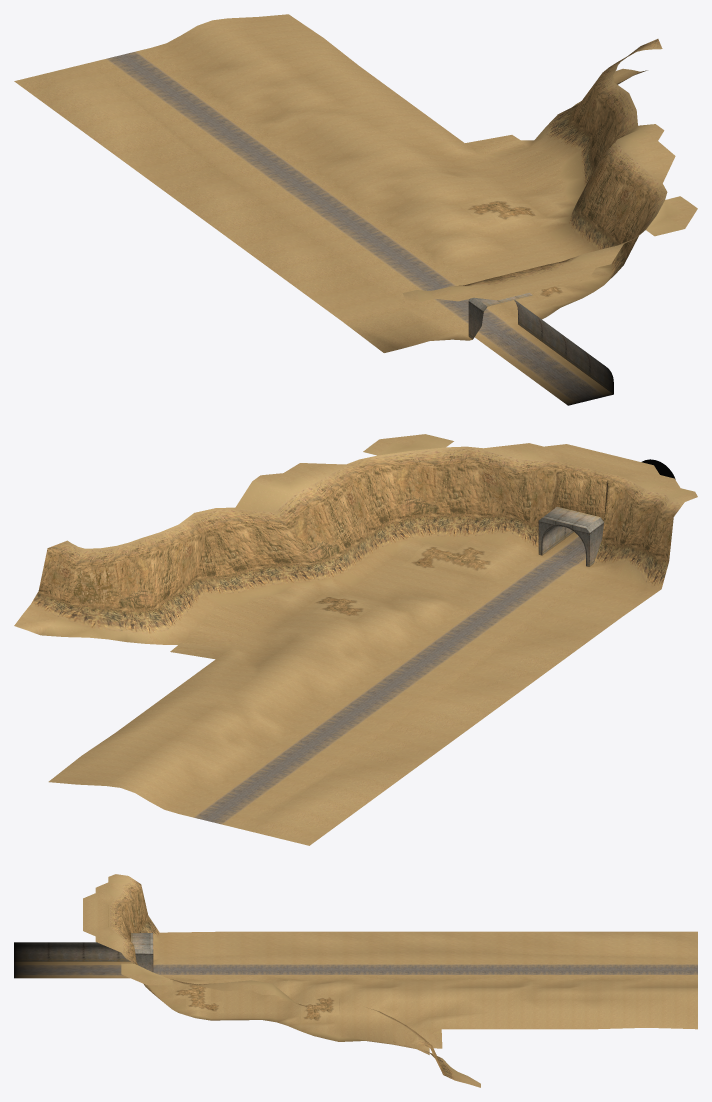
The model's file is Mission5_Zone04.glb.
3 renders of one model, top to bottom at view 1: azimuth 30°, elevation 25°; view 2: azimuth 150°, elevation 25°; view 3: azimuth 270°, elevation 25°, orthographic. The views are drawn at different scales.
Parts seen in each view (by area): view 1: MISSION5_ZONE04163, MISSION5_ZONE04102, MISSION5_ZONE04181, MISSION5_ZONE04003, MISSION5_ZONE04148, MISSION5_ZONE04010, MISSION5_ZONE04011, MISSION5_ZONE04063, MISSION5_ZONE04206, MISSION5_ZONE04193, MISSION5_ZONE04054, MISSION5_ZONE04002 (+80 smaller); view 2: MISSION5_ZONE04163, MISSION5_ZONE04102, MISSION5_ZONE04181, MISSION5_ZONE04020, MISSION5_ZONE04031, MISSION5_ZONE04087, MISSION5_ZONE04148, MISSION5_ZONE04032, MISSION5_ZONE04158, MISSION5_ZONE04016, MISSION5_ZONE04159, MISSION5_ZONE04120 (+75 smaller); view 3: MISSION5_ZONE04163, MISSION5_ZONE04102, MISSION5_ZONE04002, MISSION5_ZONE04148, MISSION5_ZONE04010, MISSION5_ZONE04181, MISSION5_ZONE04207, MISSION5_ZONE04003, MISSION5_ZONE04179, MISSION5_ZONE04222, MISSION5_ZONE04167, MISSION5_ZONE04194 (+58 smaller).
Part boxes in pixels (<box>): MISSION5_ZONE04163: <box>106,59,468,324</box>; MISSION5_ZONE04102: <box>111,63,468,333</box>; MISSION5_ZONE04181: <box>91,59,453,328</box>; MISSION5_ZONE04003: <box>513,304,613,399</box>; MISSION5_ZONE04148: <box>94,65,456,330</box>; MISSION5_ZONE04010: <box>475,272,590,402</box>; MISSION5_ZONE04011: <box>512,262,612,394</box>; MISSION5_ZONE04063: <box>598,150,628,240</box>; MISSION5_ZONE04206: <box>51,94,117,134</box>; MISSION5_ZONE04193: <box>87,123,154,161</box>; MISSION5_ZONE04054: <box>616,167,647,249</box>; MISSION5_ZONE04002: <box>476,335,590,405</box>; MISSION5_ZONE04163: <box>222,568,572,824</box>; MISSION5_ZONE04102: <box>228,567,588,820</box>; MISSION5_ZONE04181: <box>223,574,583,827</box>; MISSION5_ZONE04020: <box>479,445,522,516</box>; MISSION5_ZONE04031: <box>435,464,482,536</box>; MISSION5_ZONE04087: <box>253,486,311,564</box>; MISSION5_ZONE04148: <box>240,573,585,825</box>; MISSION5_ZONE04032: <box>392,447,445,515</box>; MISSION5_ZONE04158: <box>60,562,119,628</box>; MISSION5_ZONE04016: <box>590,480,637,564</box>; MISSION5_ZONE04159: <box>39,547,93,617</box>; MISSION5_ZONE04120: <box>174,532,237,594</box>; MISSION5_ZONE04163: <box>168,964,693,974</box>; MISSION5_ZONE04102: <box>159,959,688,974</box>; MISSION5_ZONE04002: <box>14,942,131,970</box>; MISSION5_ZONE04148: <box>160,951,697,958</box>; MISSION5_ZONE04010: <box>16,904,132,974</box>; MISSION5_ZONE04181: <box>192,959,697,964</box>; MISSION5_ZONE04207: <box>592,938,644,953</box>; MISSION5_ZONE04003: <box>14,970,129,978</box>; MISSION5_ZONE04179: <box>486,931,538,944</box>; MISSION5_ZONE04222: <box>645,938,697,953</box>; MISSION5_ZONE04167: <box>441,993,492,1016</box>; MISSION5_ZONE04194: <box>539,940,591,953</box>.
Size of the model in its own units: 123 by 22.63 by 213.
21 materials, 21 textured.
